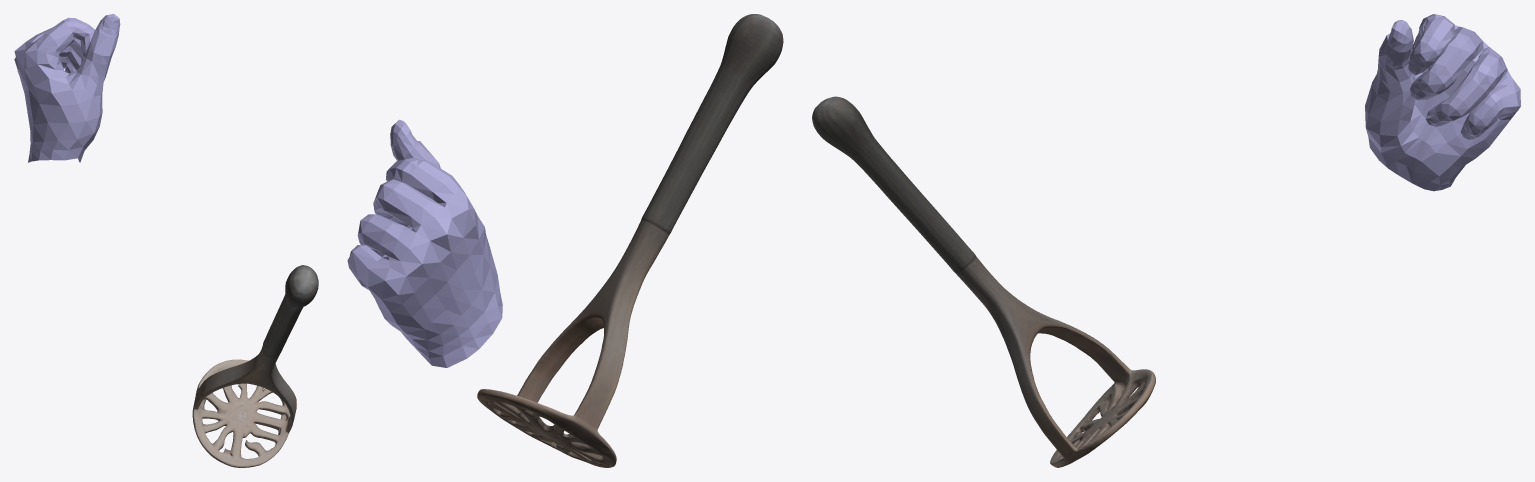
Rendered from frame_0009_source_000009_hand_object.glb.
The picture shows the model from 3 angles, left to right: view 1: azimuth 30°, elevation 25°; view 2: azimuth 150°, elevation 25°; view 3: azimuth 270°, elevation 25°; orthographic projection. The views are drawn at different scales.
Visible parts, largest first — view 1: world; view 2: world; view 3: world.
Part boxes in pixels (box(x1,y1,x2,y2)): world: box(14, 14, 318, 467); world: box(347, 14, 783, 467); world: box(812, 14, 1520, 467).
Bounding box in the file's own units: 0.1095 × 0.2804 × 0.4105.
